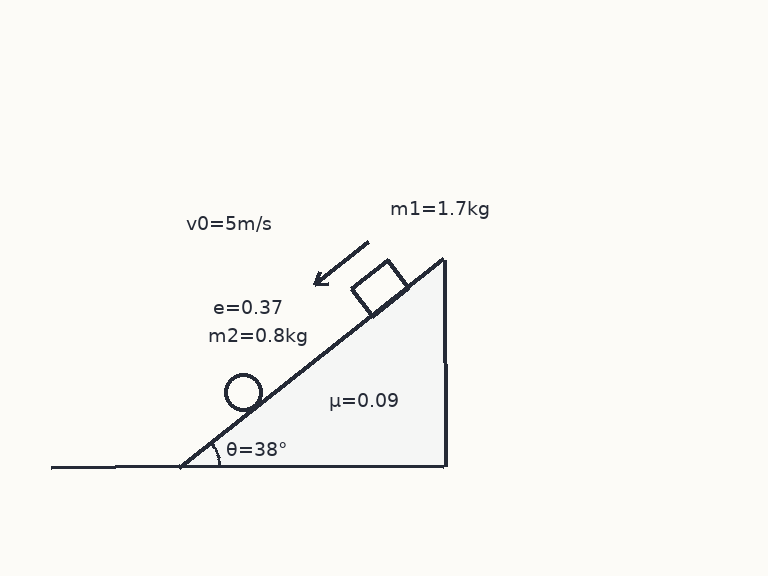ball: (222, 371, 264, 413)
block: (348, 258, 410, 318)
ramp: (177, 257, 446, 468)
